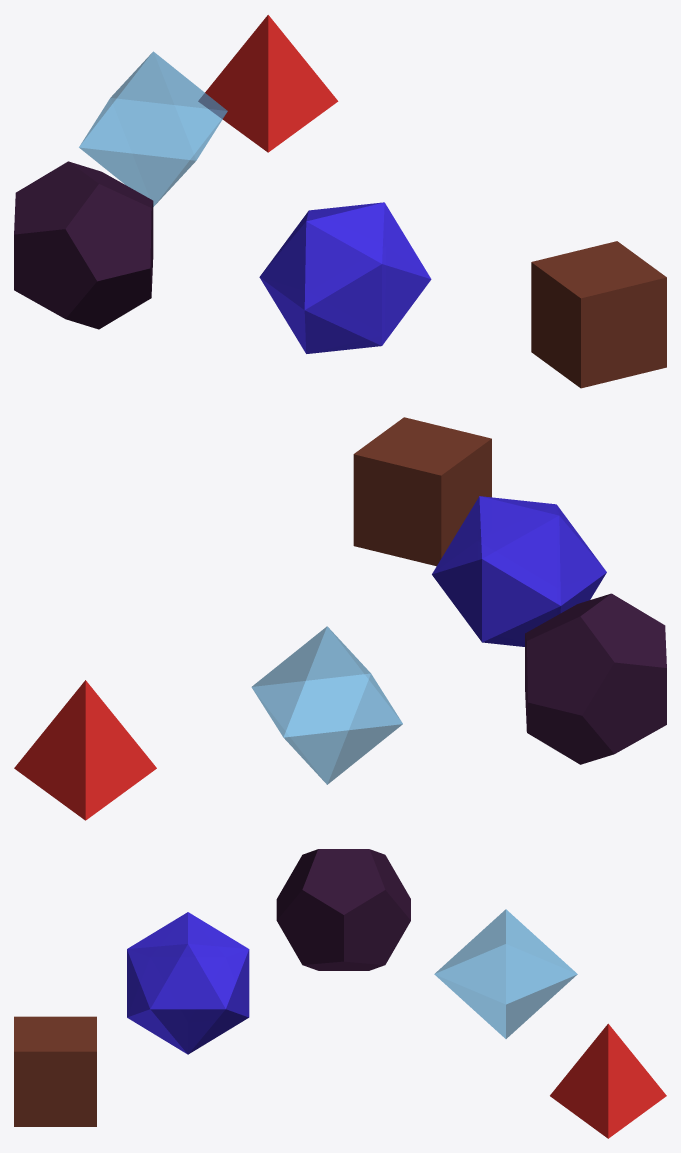
File: 5Solidos.glb
3 views of the same model, one above another, from view 1: azimuth 30°, elevation 25°; view 2: azimuth 150°, elevation 25°; view 3: azimuth 270°, elevation 25° (orthographic). The views are drawn at different scales.
Parts seen in each view (by area): view 1: Solid.006, Solid.002, Solid.004, Solid.005, Solid.003; view 2: Solid.006, Solid.002, Solid.004, Solid.005, Solid.003; view 3: Solid.006, Solid.002, Solid.005, Solid.004, Solid.003.
Part boxes in pixels (x1,y1,x2,y2): Solid.006: [14, 161, 153, 329]; Solid.002: [259, 202, 431, 353]; Solid.004: [531, 241, 666, 388]; Solid.005: [79, 51, 227, 206]; Solid.003: [198, 15, 338, 152]; Solid.006: [525, 593, 666, 764]; Solid.002: [432, 496, 606, 646]; Solid.004: [353, 417, 491, 566]; Solid.005: [251, 626, 402, 784]; Solid.003: [14, 680, 156, 820]; Solid.006: [276, 849, 410, 970]; Solid.002: [127, 912, 249, 1054]; Solid.005: [434, 909, 577, 1038]; Solid.004: [14, 1016, 96, 1126]; Solid.003: [550, 1023, 666, 1138].
Bounding box in the file's own units: 6.47 × 2 × 9.08.
